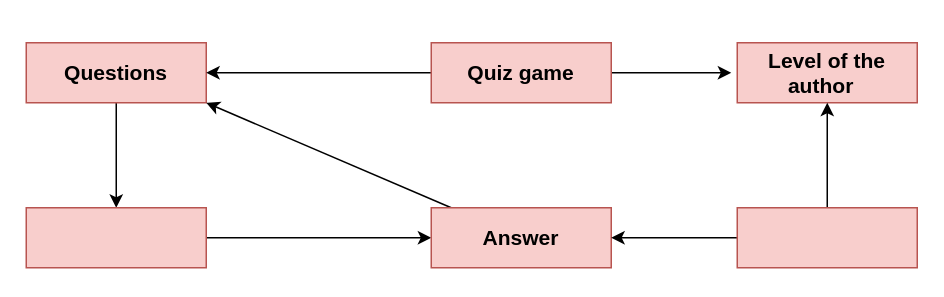
This 944x297 diagram has some shape labels left out. The shapes that lost their labels are listed below. From the top down, each one's centre as x and y in pixels, then its label:
At pixel 115 237: "Question".
At pixel 826 237: "Author".
